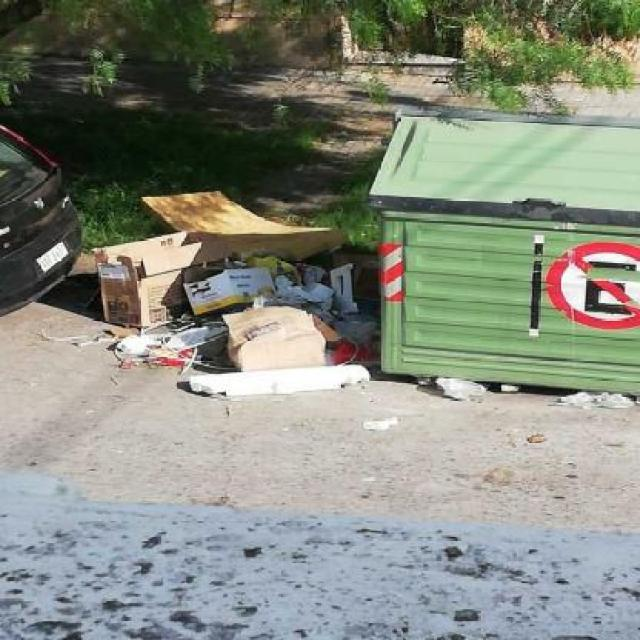garbage: (51, 134, 374, 402), (403, 369, 637, 442), (351, 410, 409, 439)
